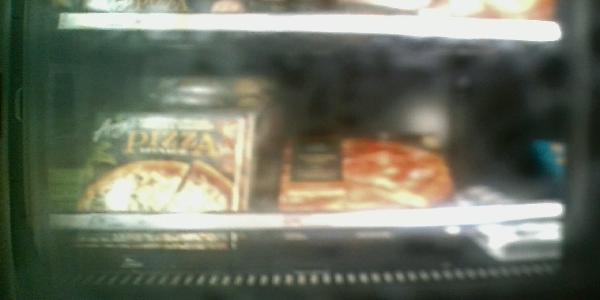pizza: (68, 107, 244, 257), (283, 132, 454, 245)
